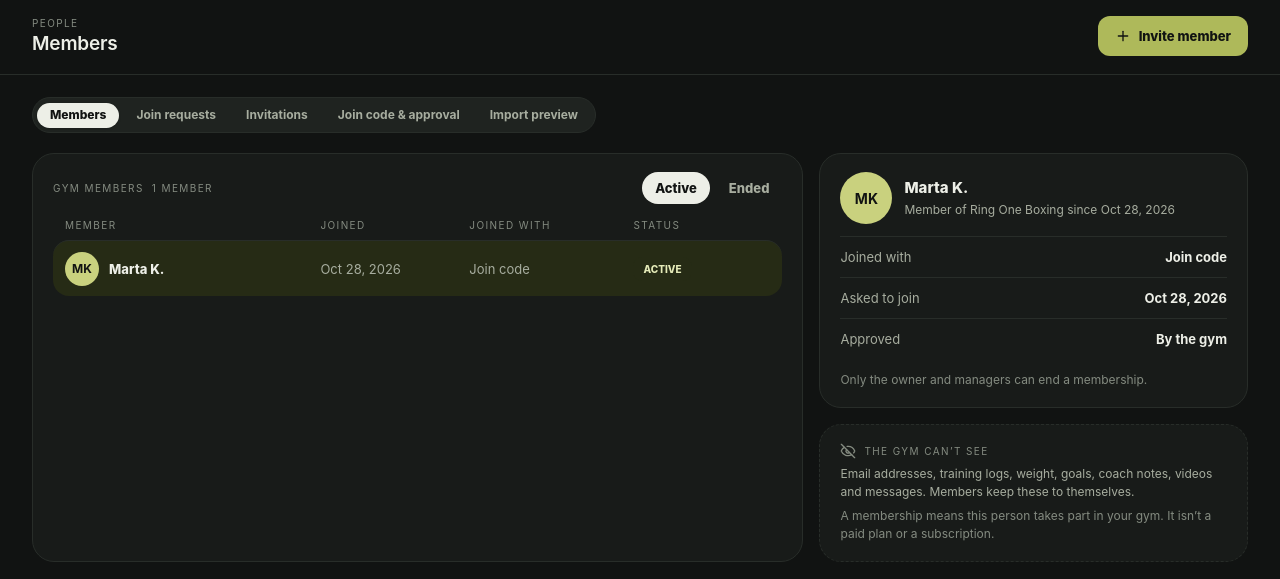
Test case: GymMembers (WG3, SF-96) › lets front desk answer requests and read the code, but not end memberships or change settings
This screenshot has width=1280, height=579.
Expected: the table named "Active members" is shown, [53,218,782,296]
Expected: the text "Only the owner and managers can end a membership." is shown, [840,372,1147,387]
Click the tab "Join code & approval".
click(399, 115)  # box [325,102,473,128]
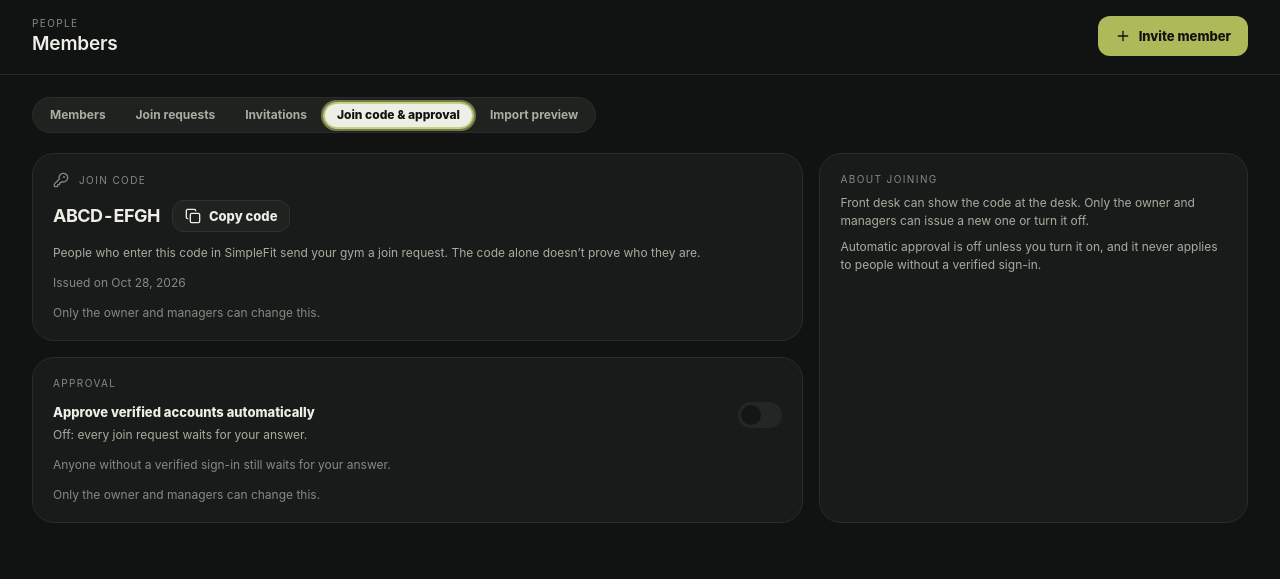
Expected: the text "ABCD-EFGH" is shown, [53,205,160,227]
